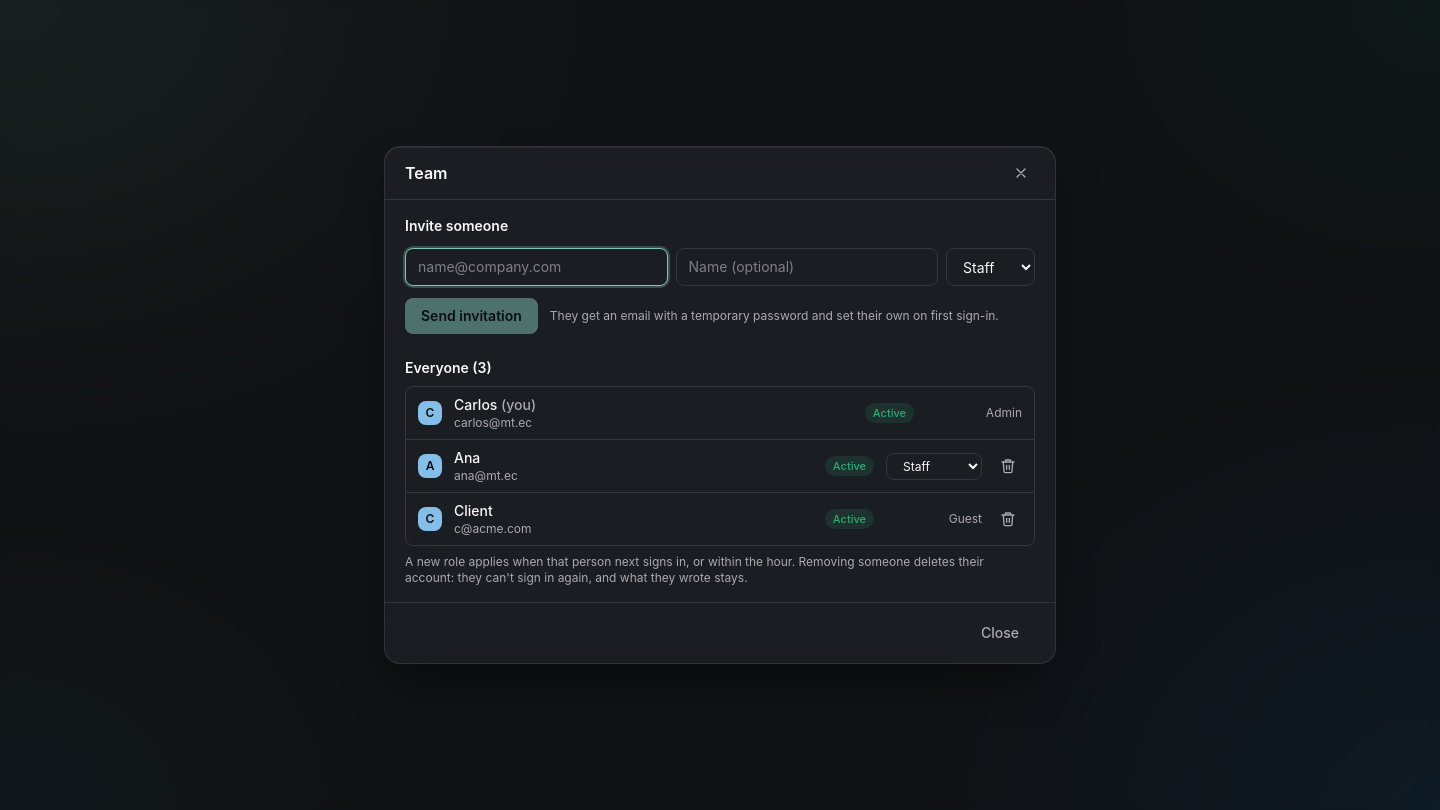
Settings → Team (Phase 62) › invites by email as Staff or Admin and refreshes the directory
Expected: the text "Ana" is shown, [454,449,480,466]
Type "luis@mt.ec" into the field named "Email".
click(536, 267); type("luis@mt.ec")  # box [405,248,668,286]
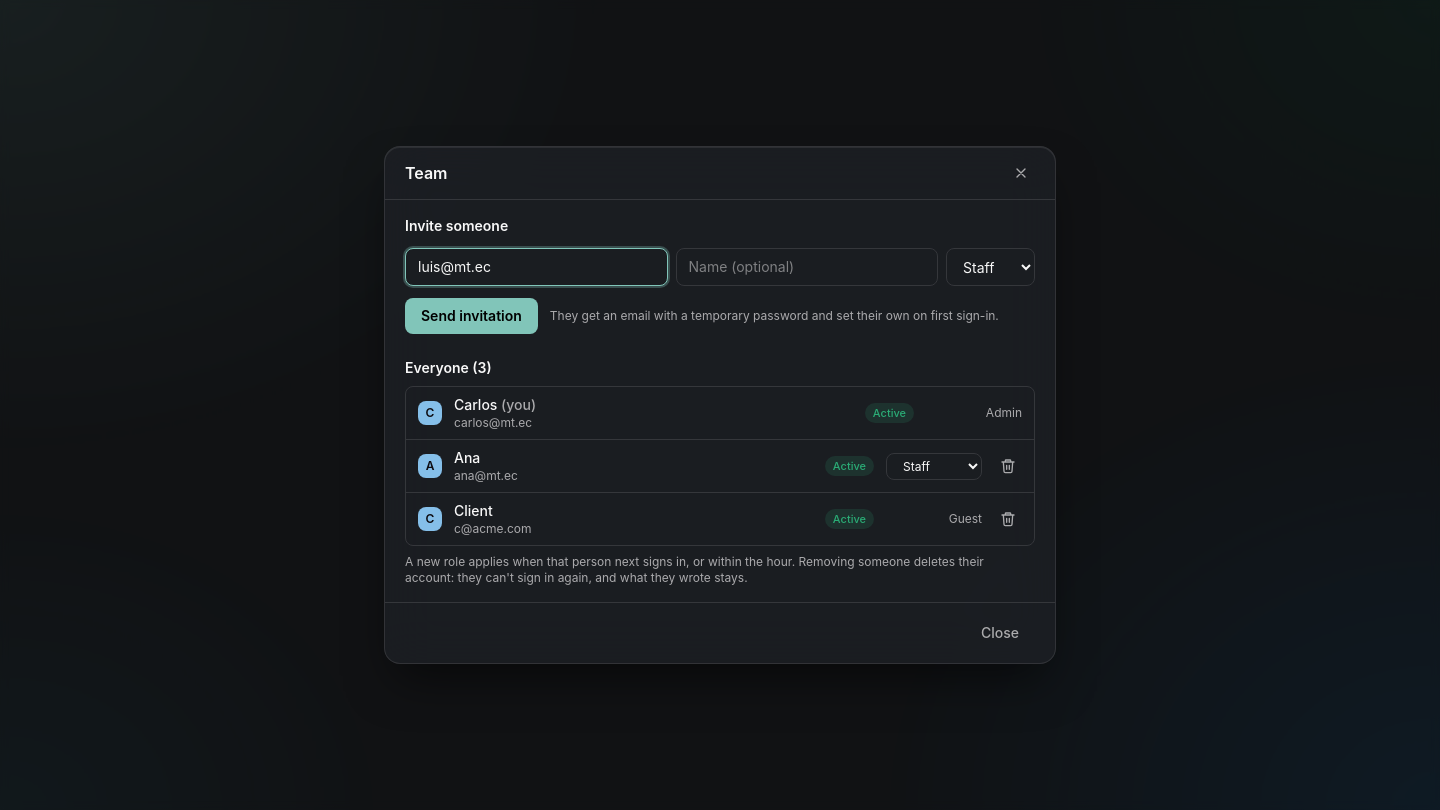
Type "Luis" into the field labelled "Name".
click(807, 267); type("Luis")  # box [676,248,938,286]
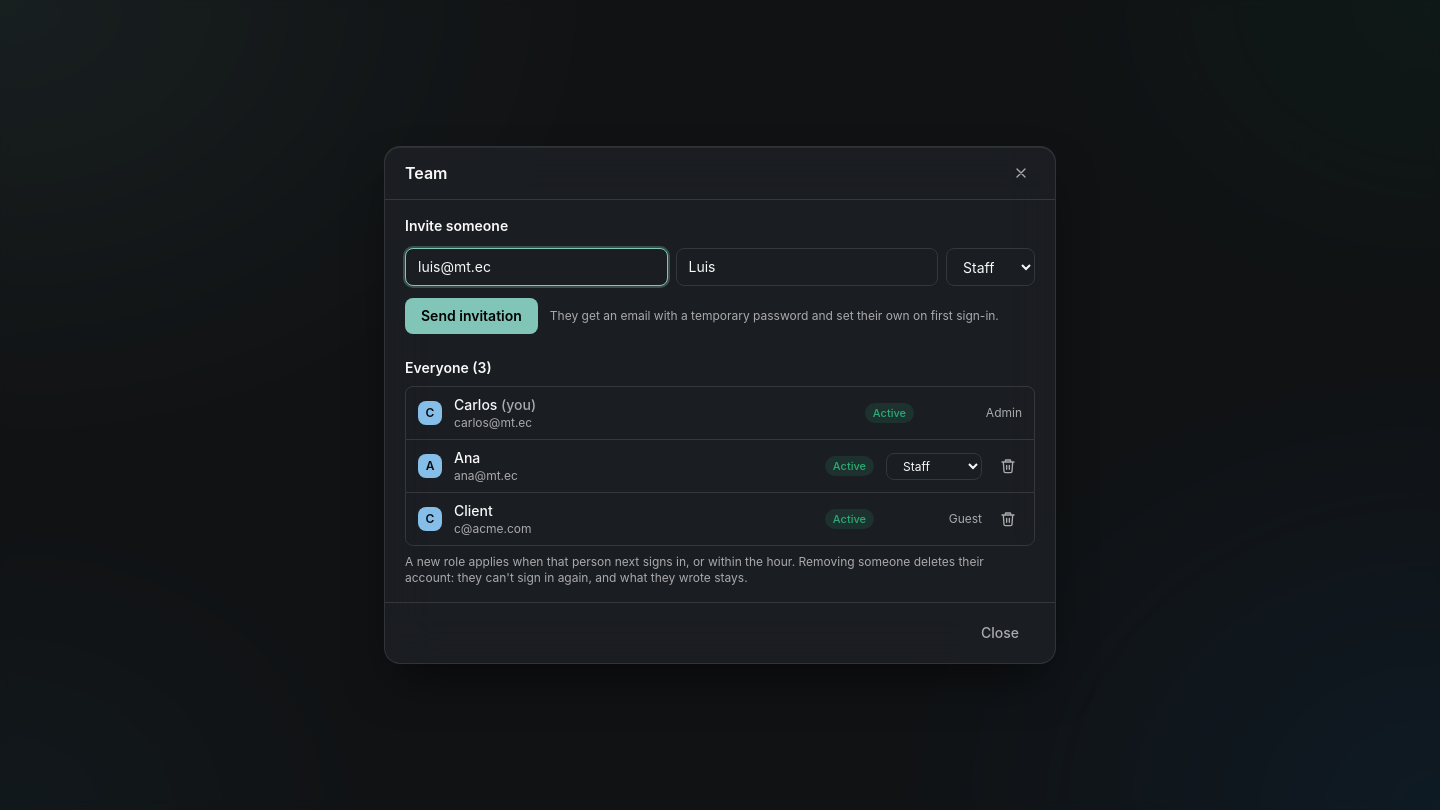
Select "Admin" in the dropdown named "Role" at (990, 267), box [946,248,1035,286]
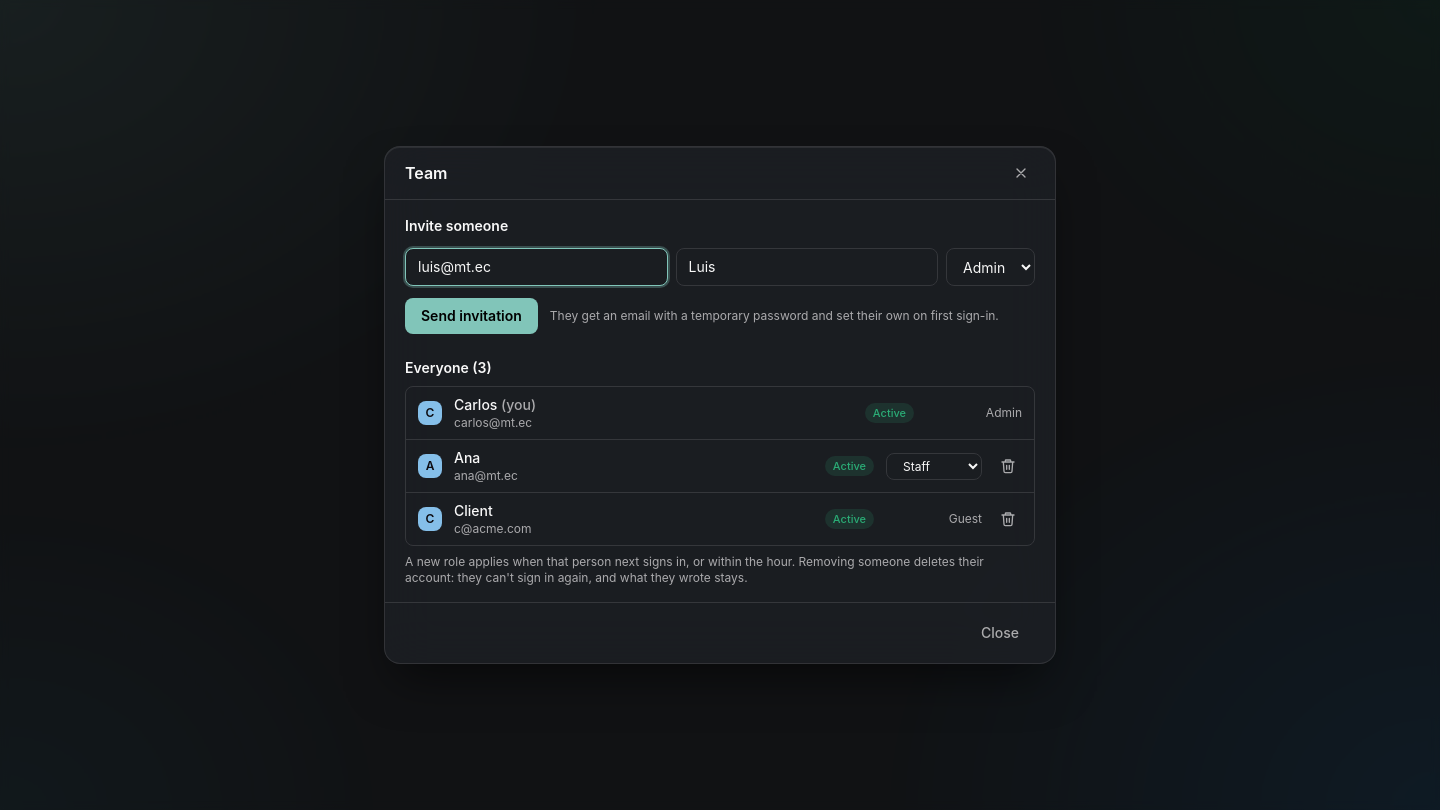
Click the button "Send invitation".
click(471, 316)  # box [405,298,538,334]
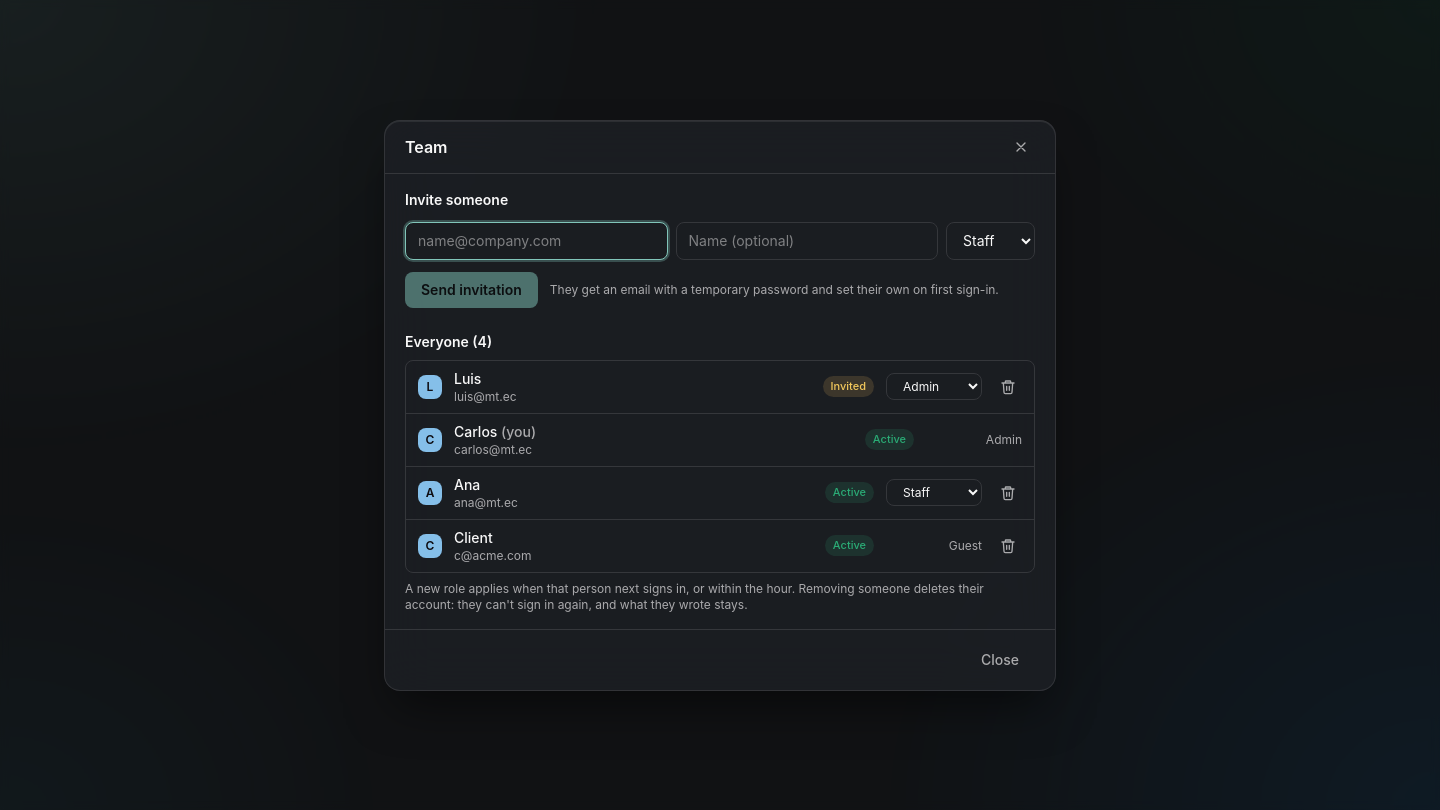
Now the text "Luis" is shown, box [454,370,481,386]
Now the text "Invited" is shown, box [823,376,874,397]
